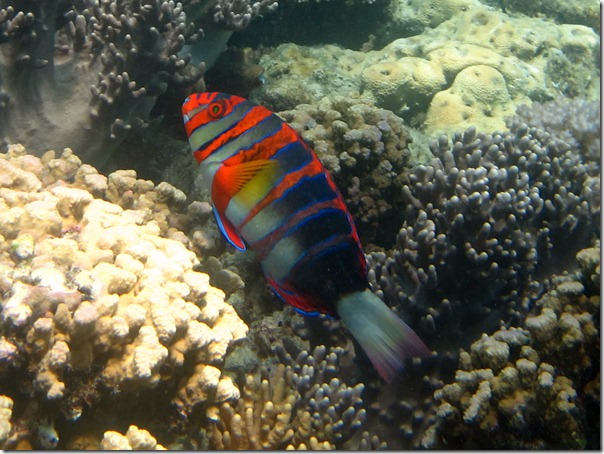fish: (182, 93, 430, 382)
